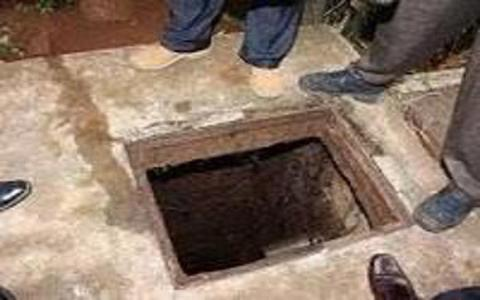open manhole: (124, 106, 416, 282)
